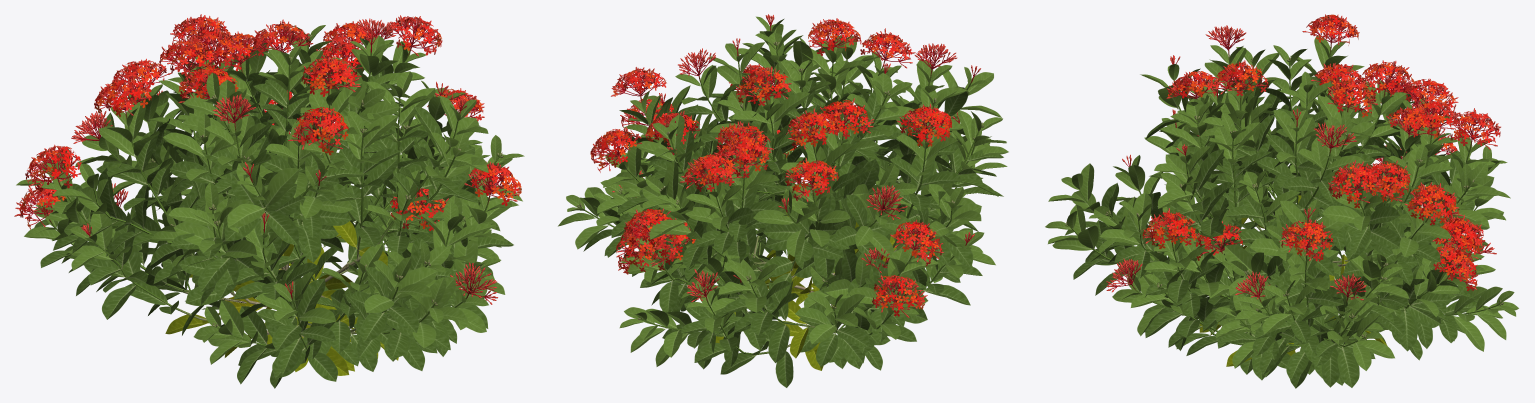
File: geranium.glb
3 views of the same model, side by side, from view 1: azimuth 30°, elevation 25°; view 2: azimuth 150°, elevation 25°; view 3: azimuth 270°, elevation 25° (orthographic). The views are drawn at different scales.
Visible parts, largest first — view 1: Ixora_chinensis_red_HD_Ixora leaf 01a_0, Ixora_chinensis_red_HD_Ixora leaf 01d_0, Ixora_chinensis_red_HD_Ixora tube_0, Ixora_chinensis_red_HD_Ixora flower 01_0, Ixora_chinensis_red_HD_Ixora flower 02_0, Ixora_chinensis_red_HD_Ixora flower 03_0, Ixora_chinensis_red_HD_Ixora twig_0, Ixora_chinensis_red_HD_Ixora leaf 01e_0, Ixora_chinensis_red_HD_Ixora flower stalk 2_0, Ixora_chinensis_red_HD_Ixora branches_0, Ixora_chinensis_red_HD_Ixora bud_0; view 2: Ixora_chinensis_red_HD_Ixora leaf 01a_0, Ixora_chinensis_red_HD_Ixora leaf 01d_0, Ixora_chinensis_red_HD_Ixora tube_0, Ixora_chinensis_red_HD_Ixora flower 01_0, Ixora_chinensis_red_HD_Ixora flower 02_0, Ixora_chinensis_red_HD_Ixora flower 03_0, Ixora_chinensis_red_HD_Ixora twig_0, Ixora_chinensis_red_HD_Ixora leaf 01e_0, Ixora_chinensis_red_HD_Ixora flower stalk 2_0, Ixora_chinensis_red_HD_Ixora branches_0; view 3: Ixora_chinensis_red_HD_Ixora leaf 01a_0, Ixora_chinensis_red_HD_Ixora leaf 01d_0, Ixora_chinensis_red_HD_Ixora tube_0, Ixora_chinensis_red_HD_Ixora flower 01_0, Ixora_chinensis_red_HD_Ixora flower 02_0, Ixora_chinensis_red_HD_Ixora flower 03_0, Ixora_chinensis_red_HD_Ixora twig_0, Ixora_chinensis_red_HD_Ixora flower stalk 2_0, Ixora_chinensis_red_HD_Ixora branches_0, Ixora_chinensis_red_HD_Ixora leaf 01e_0, Ixora_chinensis_red_HD_Ixora bud_0.
Boxes of the visible parts, box(x1,y1,x2,y2) form: Ixora_chinensis_red_HD_Ixora leaf 01a_0: box(16, 25, 524, 364); Ixora_chinensis_red_HD_Ixora leaf 01d_0: box(34, 62, 513, 388); Ixora_chinensis_red_HD_Ixora tube_0: box(14, 14, 519, 304); Ixora_chinensis_red_HD_Ixora flower 01_0: box(20, 16, 520, 228); Ixora_chinensis_red_HD_Ixora flower 02_0: box(20, 16, 521, 229); Ixora_chinensis_red_HD_Ixora flower 03_0: box(19, 17, 521, 230); Ixora_chinensis_red_HD_Ixora twig_0: box(53, 39, 498, 345); Ixora_chinensis_red_HD_Ixora leaf 01e_0: box(165, 221, 398, 375); Ixora_chinensis_red_HD_Ixora flower stalk 2_0: box(30, 30, 505, 296); Ixora_chinensis_red_HD_Ixora branches_0: box(136, 132, 435, 349); Ixora_chinensis_red_HD_Ixora bud_0: box(149, 33, 503, 327); Ixora_chinensis_red_HD_Ixora leaf 01a_0: box(558, 16, 1008, 366); Ixora_chinensis_red_HD_Ixora leaf 01d_0: box(583, 51, 1003, 387); Ixora_chinensis_red_HD_Ixora tube_0: box(591, 14, 980, 317); Ixora_chinensis_red_HD_Ixora flower 01_0: box(591, 19, 948, 310); Ixora_chinensis_red_HD_Ixora flower 02_0: box(590, 20, 951, 309); Ixora_chinensis_red_HD_Ixora flower 03_0: box(590, 19, 951, 316); Ixora_chinensis_red_HD_Ixora twig_0: box(581, 46, 979, 338); Ixora_chinensis_red_HD_Ixora leaf 01e_0: box(715, 180, 896, 370); Ixora_chinensis_red_HD_Ixora flower stalk 2_0: box(604, 26, 973, 304); Ixora_chinensis_red_HD_Ixora branches_0: box(685, 123, 919, 355); Ixora_chinensis_red_HD_Ixora leaf 01a_0: box(1045, 36, 1518, 370); Ixora_chinensis_red_HD_Ixora leaf 01d_0: box(1064, 76, 1489, 388); Ixora_chinensis_red_HD_Ixora tube_0: box(1106, 14, 1500, 300); Ixora_chinensis_red_HD_Ixora flower 01_0: box(1153, 14, 1500, 290); Ixora_chinensis_red_HD_Ixora flower 02_0: box(1143, 14, 1498, 287); Ixora_chinensis_red_HD_Ixora flower 03_0: box(1142, 15, 1499, 290); Ixora_chinensis_red_HD_Ixora twig_0: box(1070, 54, 1499, 347); Ixora_chinensis_red_HD_Ixora flower stalk 2_0: box(1117, 27, 1488, 297); Ixora_chinensis_red_HD_Ixora branches_0: box(1132, 158, 1409, 340); Ixora_chinensis_red_HD_Ixora leaf 01e_0: box(1199, 195, 1387, 366); Ixora_chinensis_red_HD_Ixora bud_0: box(1065, 57, 1503, 340).
Bounding box in the file's own units: 1.22 × 0.8615 × 1.24.
14 materials, 14 textured.
